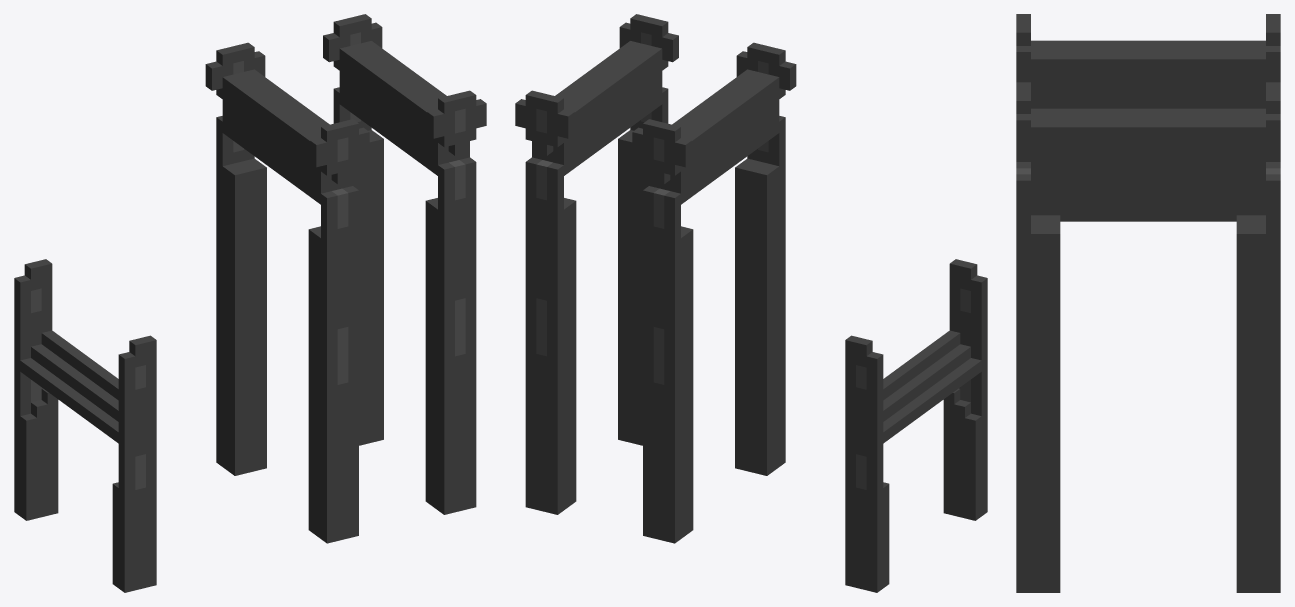
Rendered from подпорки между которой и движеться лента.obj.
3 renders of one model, left to right at view 1: azimuth 30°, elevation 25°; view 2: azimuth 150°, elevation 25°; view 3: azimuth 270°, elevation 25°, orthographic. The views are drawn at different scales.
Size of the model in its own units: 3.4 by 3.7 by 1.8.
Materials: 1 (1 with a texture image).
